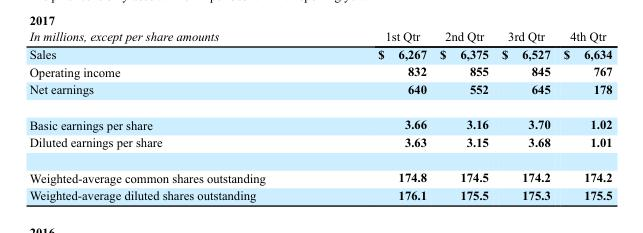table: (28, 28, 611, 202)
table column: (28, 28, 321, 202), (321, 28, 432, 202), (432, 28, 494, 202), (494, 28, 556, 202), (556, 28, 611, 202)
table column header: (28, 28, 611, 44)
table row: (28, 106, 611, 133), (28, 159, 611, 186), (28, 80, 611, 106), (28, 133, 611, 159), (28, 44, 611, 62), (28, 62, 611, 80), (28, 28, 611, 44), (28, 186, 611, 202)
